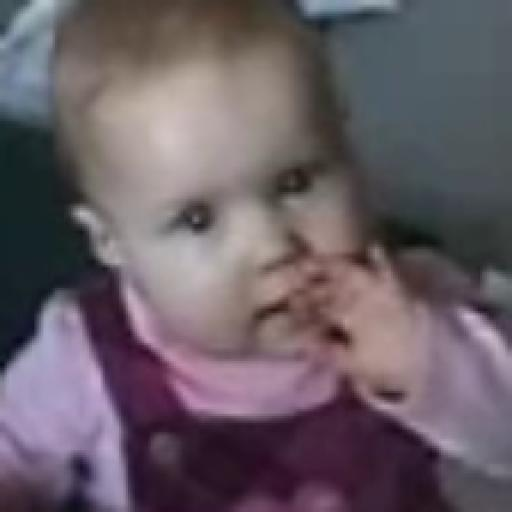Autism: (43, 0, 436, 411)
